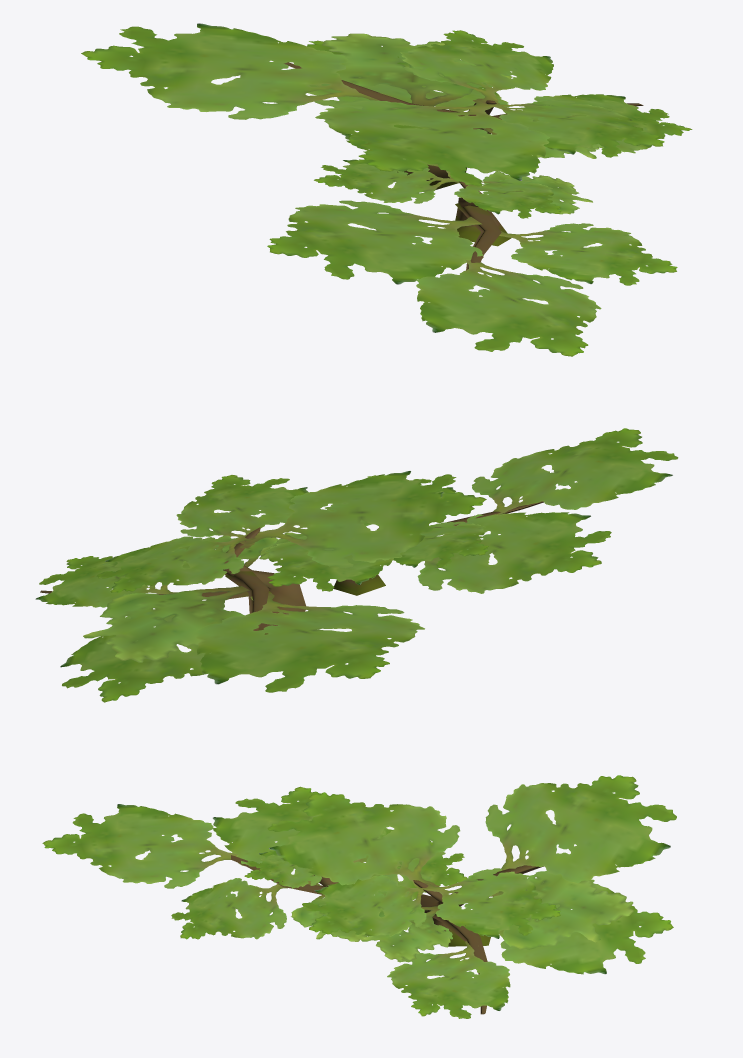
File: liemo_plant_07 (15) #65350066.fbx
3 views of the same model, one above another, from view 1: azimuth 30°, elevation 25°; view 2: azimuth 150°, elevation 25°; view 3: azimuth 270°, elevation 25° (orthographic). The views are drawn at different scales.
Parts seen in each view (by area): view 1: liemo_plant_07 (15); view 2: liemo_plant_07 (15); view 3: liemo_plant_07 (15).
Part boxes in pixels (x1,y1,x2,y2): liemo_plant_07 (15): (81, 23, 692, 356); liemo_plant_07 (15): (35, 428, 678, 702); liemo_plant_07 (15): (42, 775, 676, 1018).
Size of the model in its own units: 6.54 by 1.3 by 9.07.
